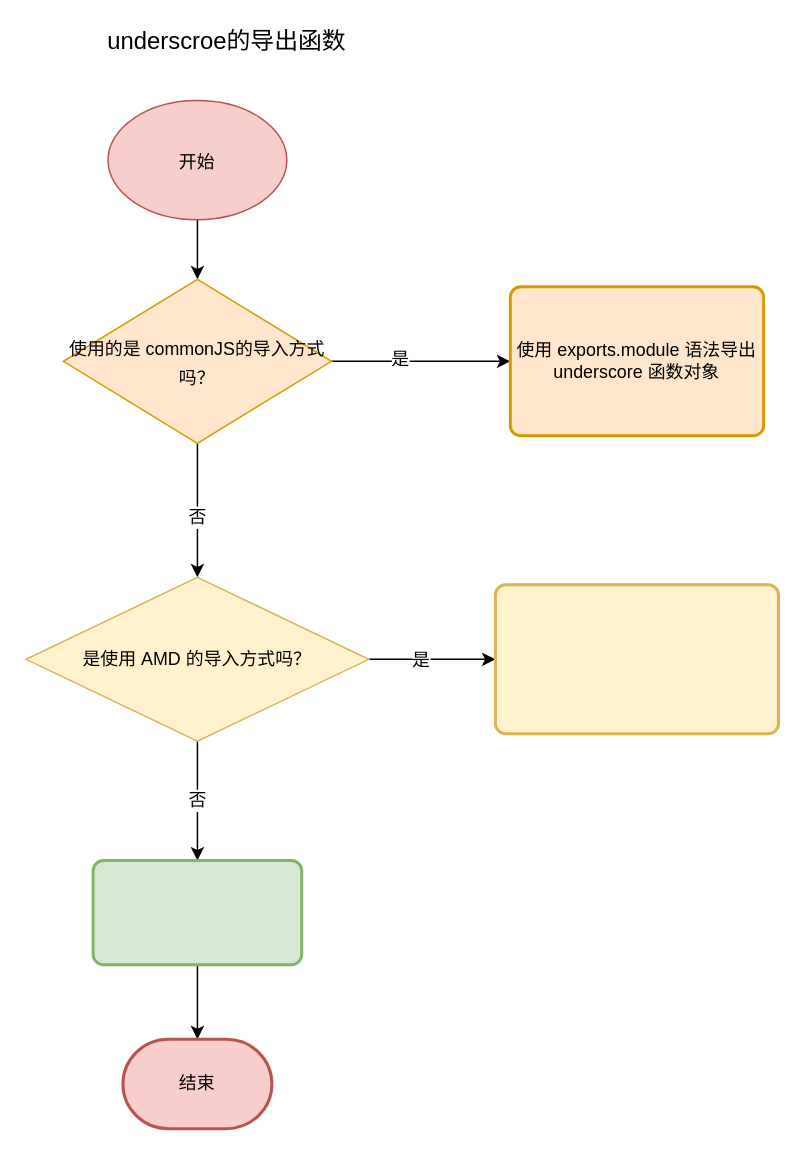
Some shapes in this 806 by 1155 pixel diagram are drawn without their labels. Each missing label, with the centre of its shape:
使用 define 方法导出 underscore函数对象: (x=636, y=659)
把 underscore 函数对象挂载到全局: (x=196, y=912)
